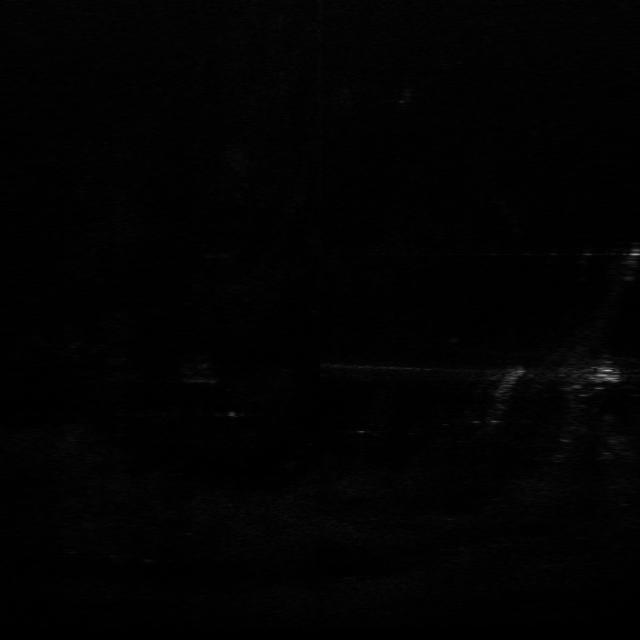rov: (587, 360, 621, 386)
